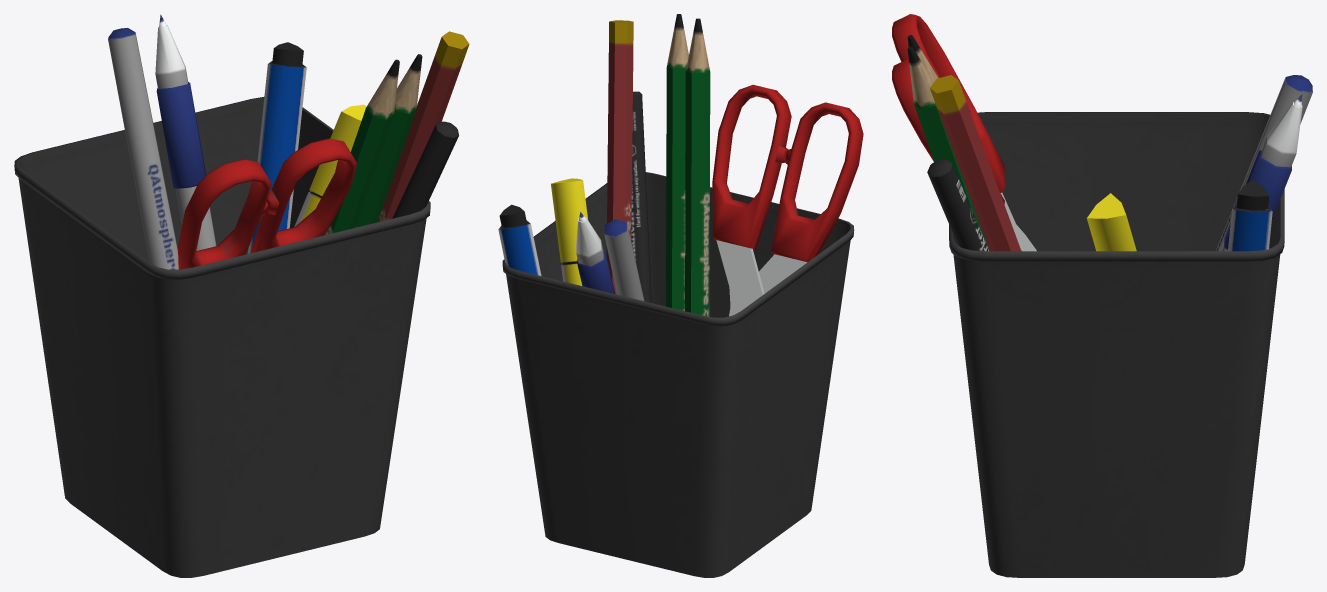
The model's file is GlassWithPencilsC.FBX.
3 views of the same model, side by side, from view 1: azimuth 30°, elevation 25°; view 2: azimuth 150°, elevation 25°; view 3: azimuth 270°, elevation 25° (orthographic). The views are drawn at different scales.
Visible parts, largest first — view 1: GlassWithPencilsC_LOD0; view 2: GlassWithPencilsC_LOD0; view 3: GlassWithPencilsC_LOD0.
Part boxes in pixels (x1,y1,x2,y2): GlassWithPencilsC_LOD0: (14, 14, 469, 577); GlassWithPencilsC_LOD0: (498, 14, 863, 577); GlassWithPencilsC_LOD0: (892, 14, 1312, 577).
Size of what is drawn, in the model's own units: 10.75 by 17.26 by 12.5.
